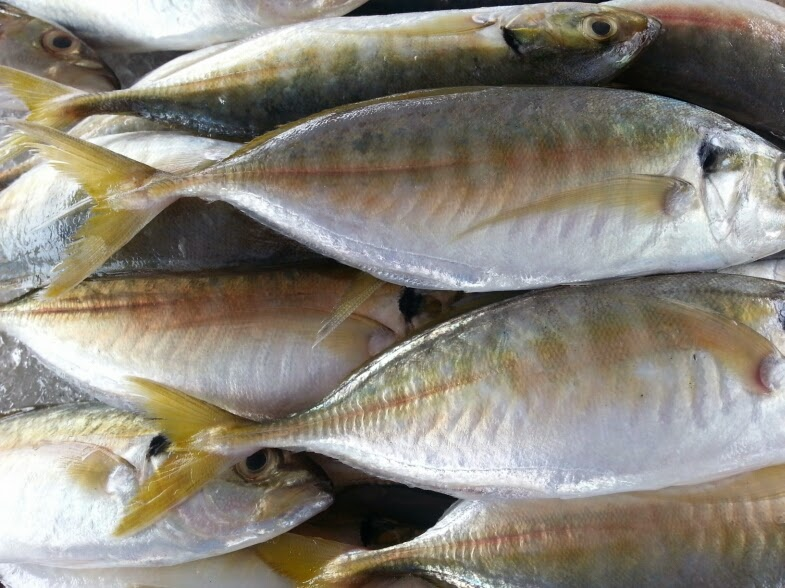Ikan Selar: (79, 85, 784, 292), (143, 273, 785, 491), (30, 1, 667, 111)
